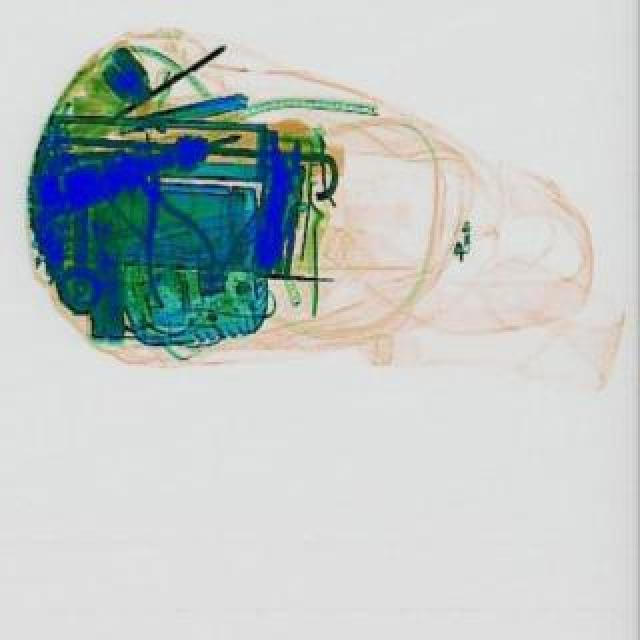wrench: (114, 162, 230, 312)
